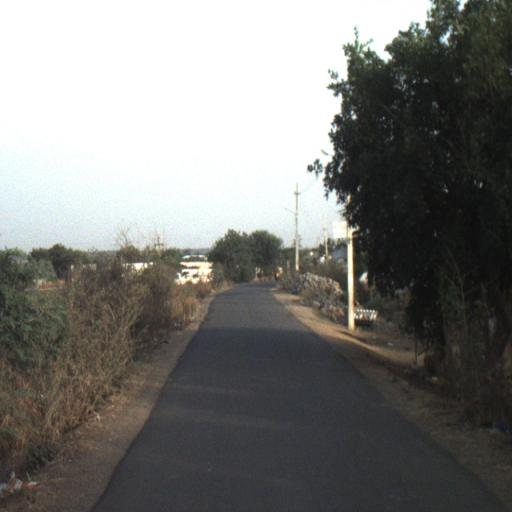street_light_0: (284, 206, 298, 223), (321, 148, 333, 156)
